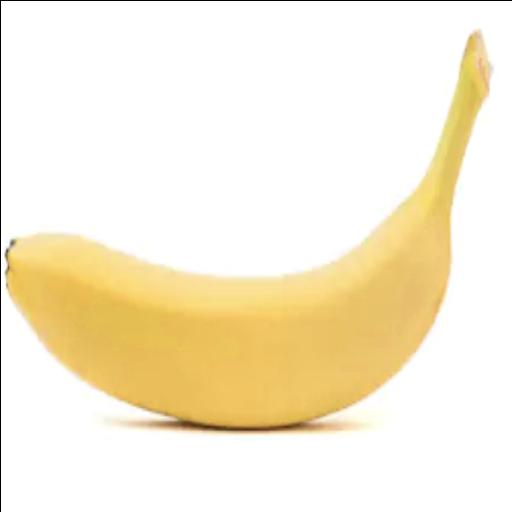banana: (7, 32, 489, 428)
